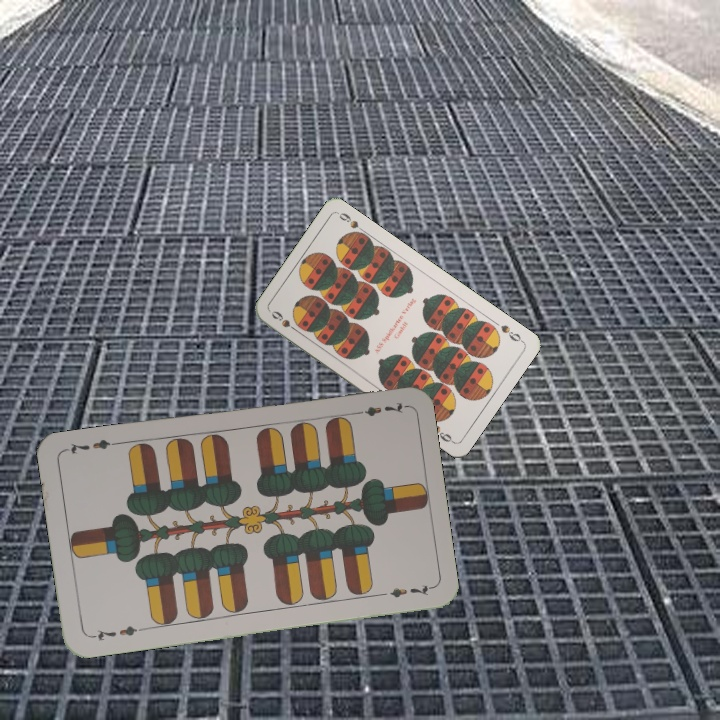E7: (87, 621, 144, 644), (349, 398, 408, 419)
S9: (267, 307, 303, 336), (497, 320, 526, 345)
